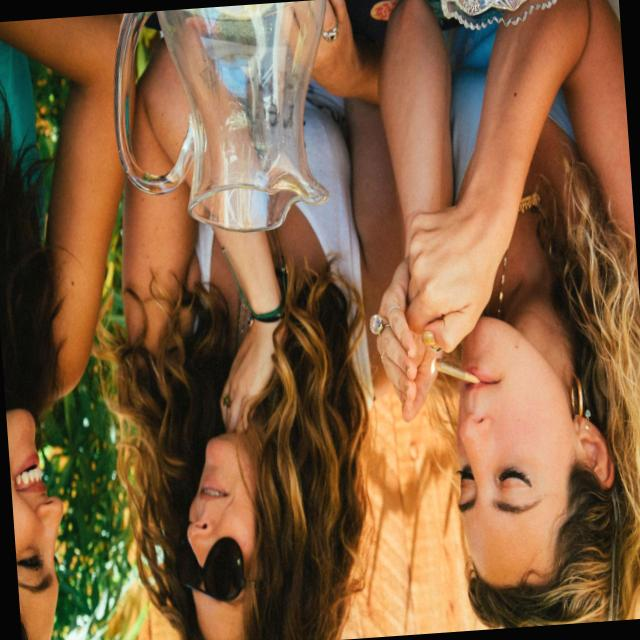cigarette: (426, 335, 488, 408)
